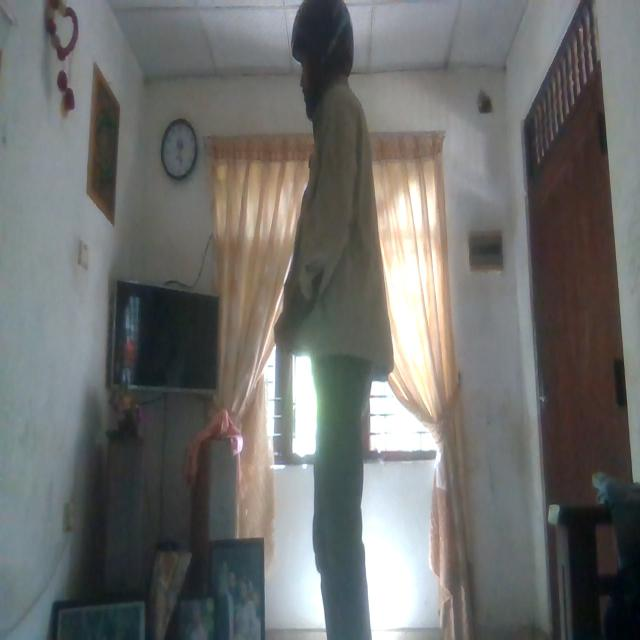Helmet_Wearer: (288, 0, 364, 102)
Jacket_Wearer: (283, 80, 393, 384)
Person: (276, 0, 394, 640)
